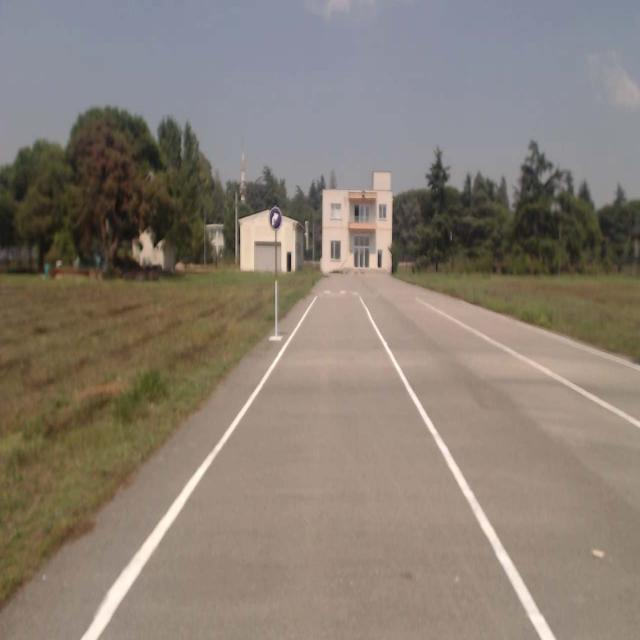sag: (269, 207, 281, 230)
